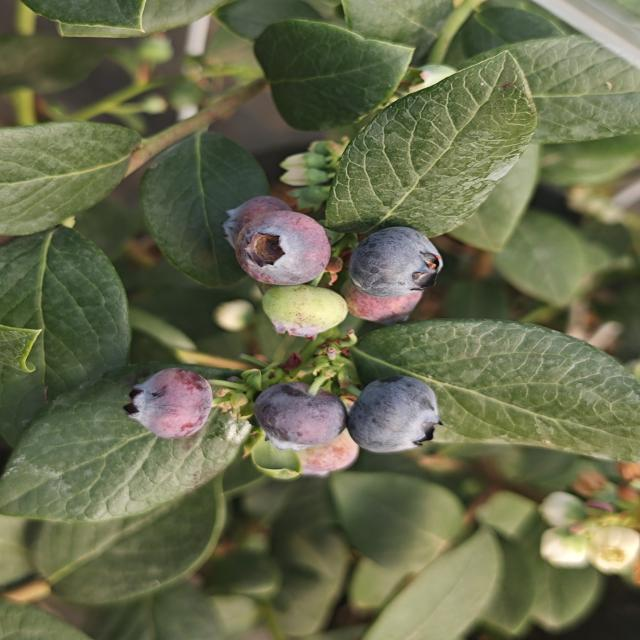ripe: (346, 366, 451, 461), (344, 219, 449, 301), (245, 375, 352, 452)
